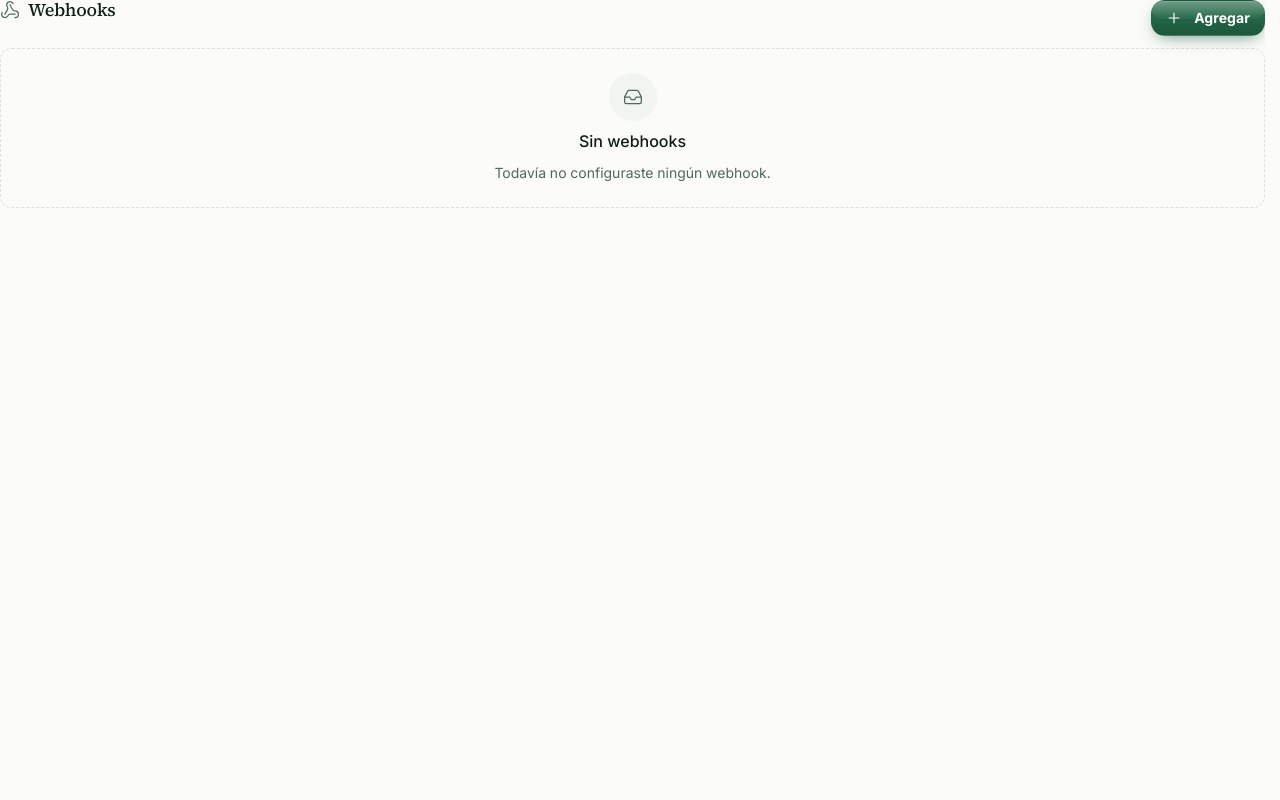
Scenario: WebhooksSection: crear › crea por step-up con la lista de eventos limpia y muestra el secreto UNA vez
Later steps or results of the test are not shown.
Click the button "Agregar". click: (1208, 18)
box: [1151,0,1265,36]
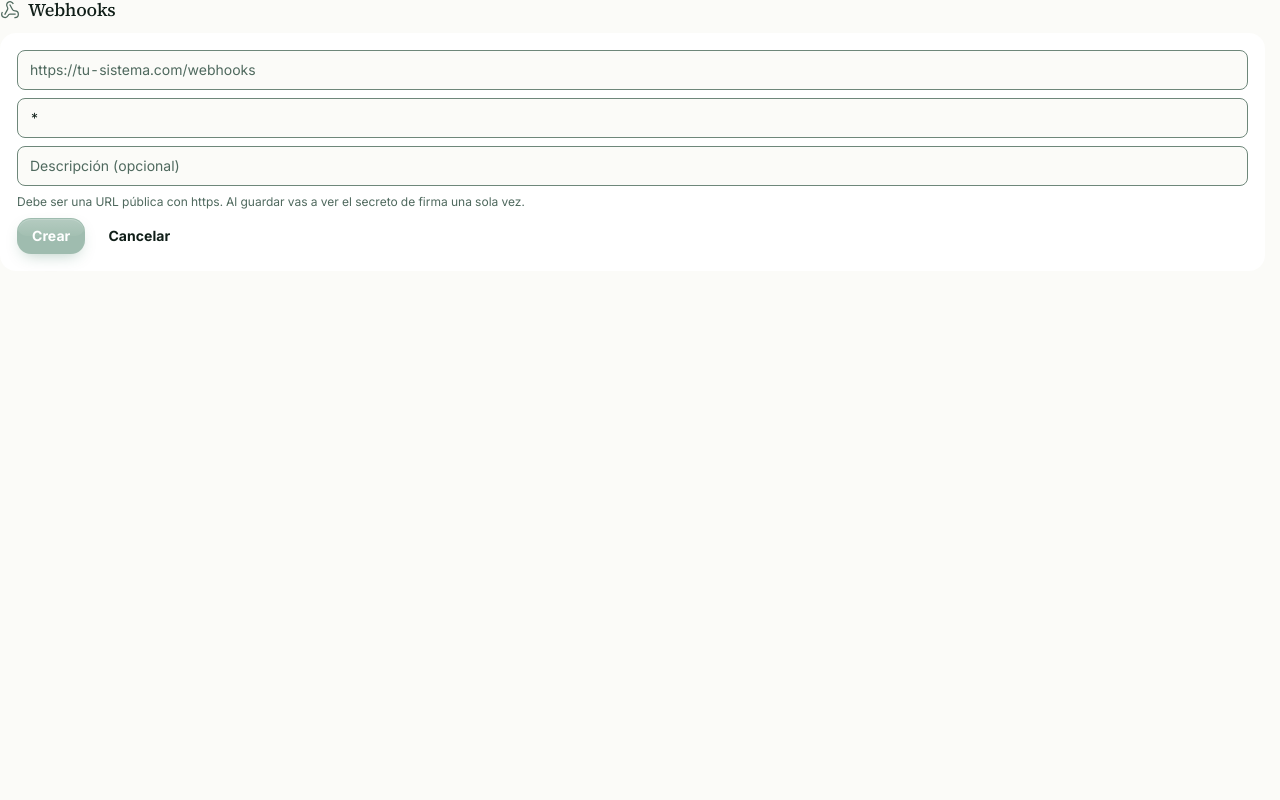
Type " https://nuevo.com/h " into the field with placeholder "https://tu-sistema.com/webhooks". click: (632, 70)
box: [17,50,1248,90]
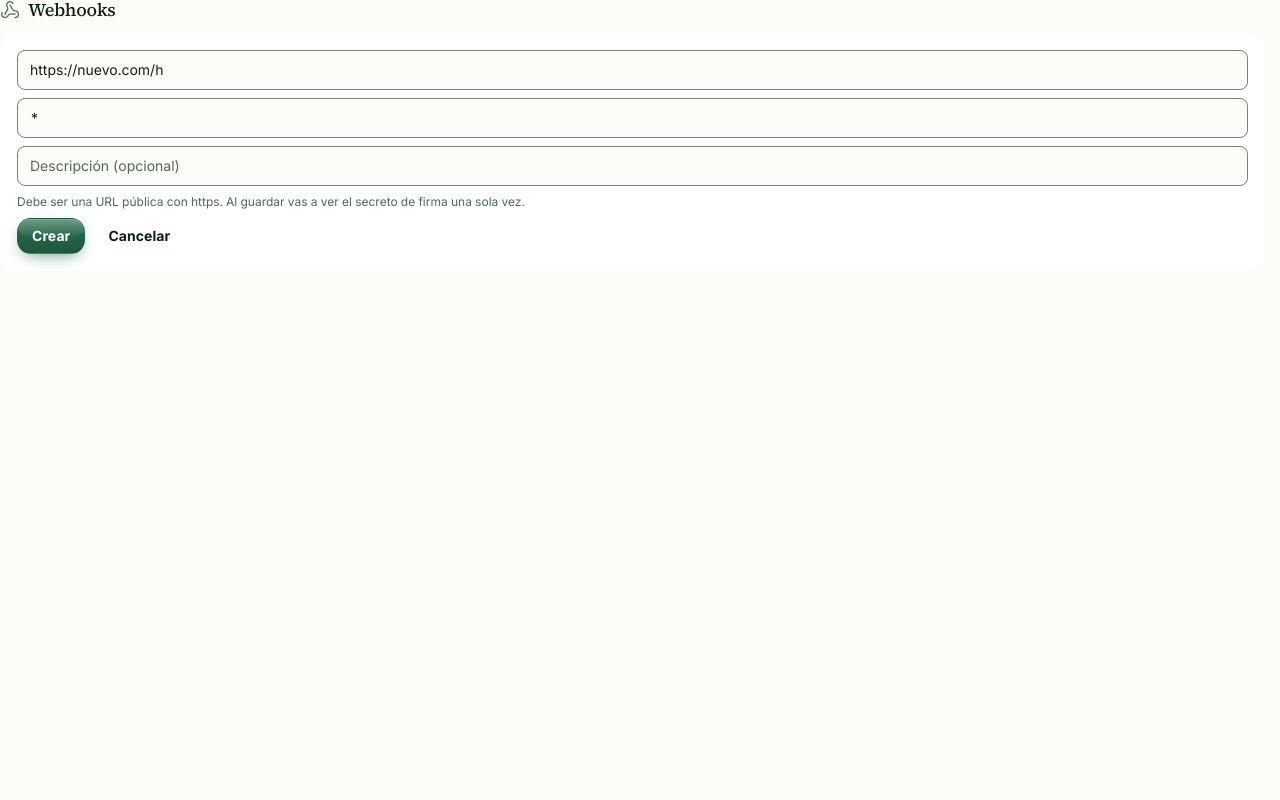
Replace the text in the 2nd field with placeholder "Eventos separados por coma (* = todos)" with "a, b ,, c". click: (632, 118)
box: [17,98,1248,138]
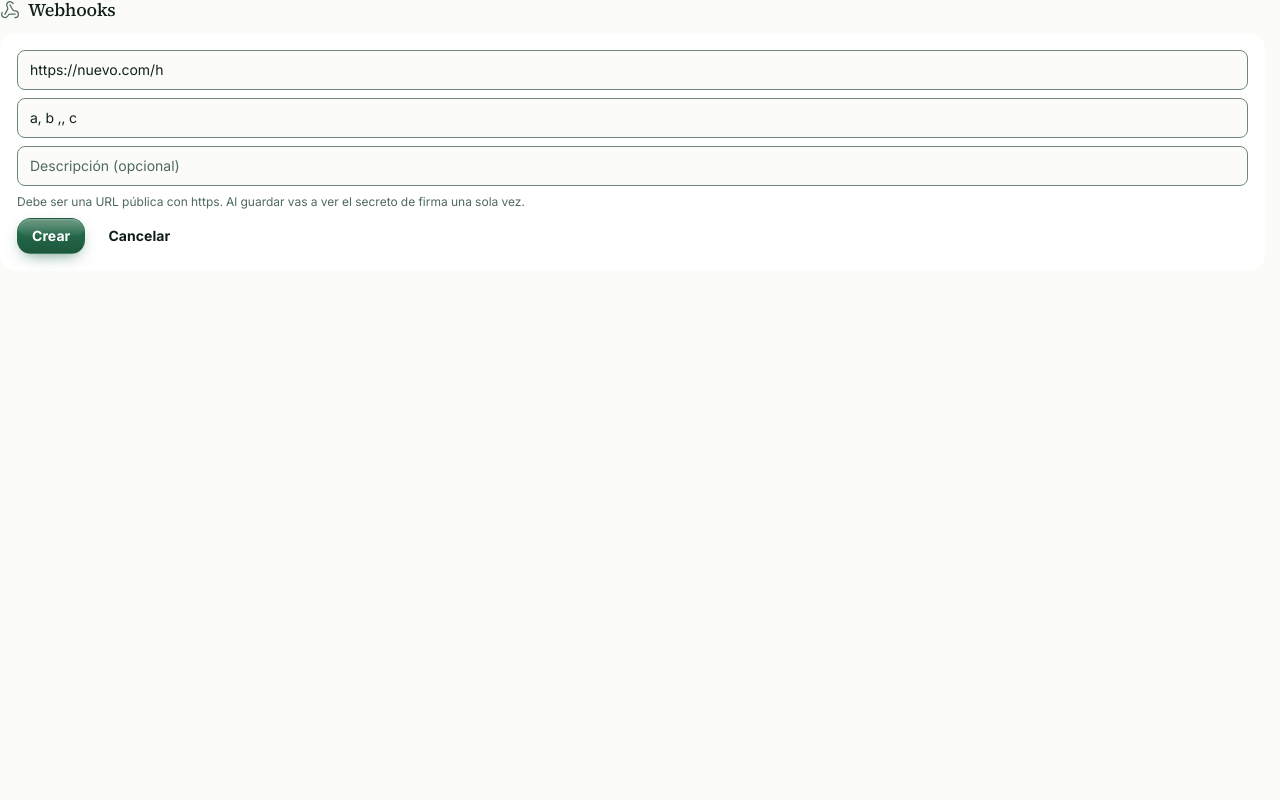
Click the button "Crear". click: (51, 236)
box: [17,218,85,254]
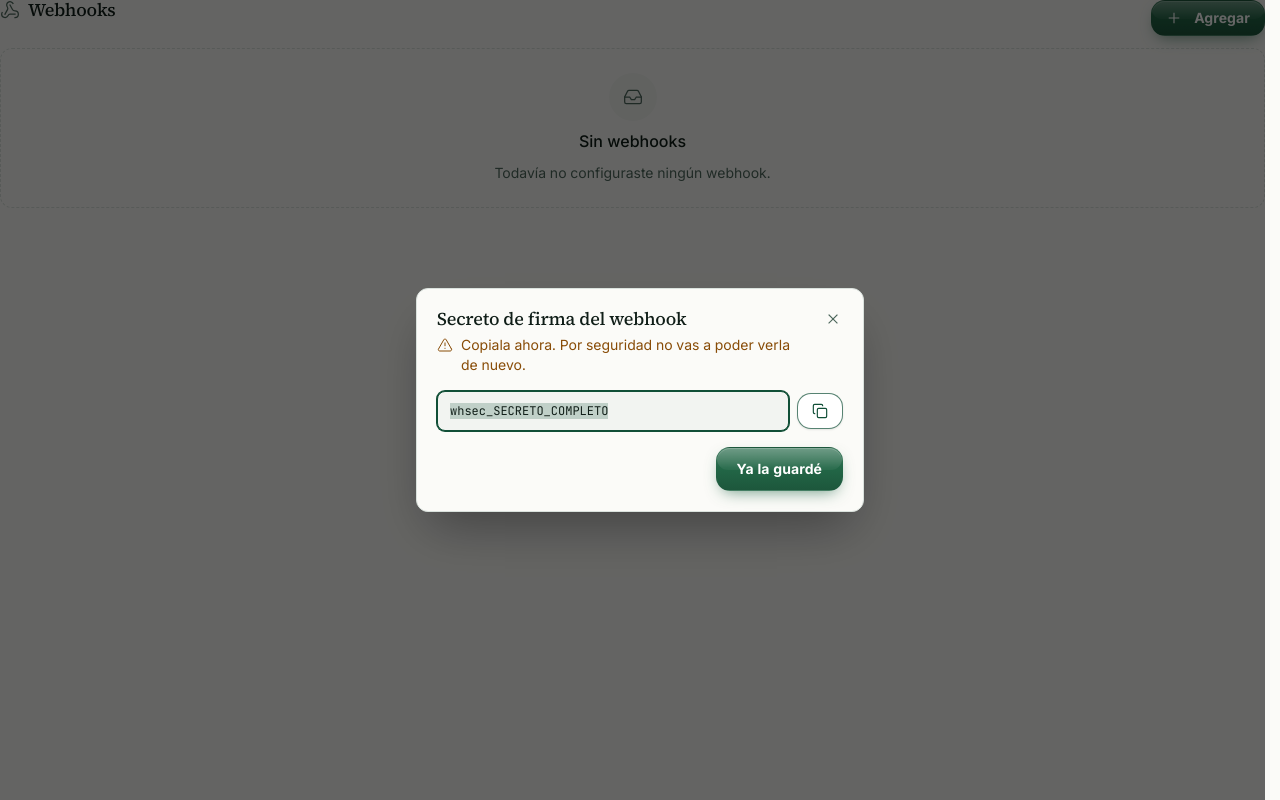
Expected: the field named "Valor del secreto" holds "whsec_SECRETO_COMPLETO", [437,391,789,431]
Expected: the text "Copiala ahora. Por seguridad no vas a poder verla de nuevo." is shown, [437,335,803,375]
